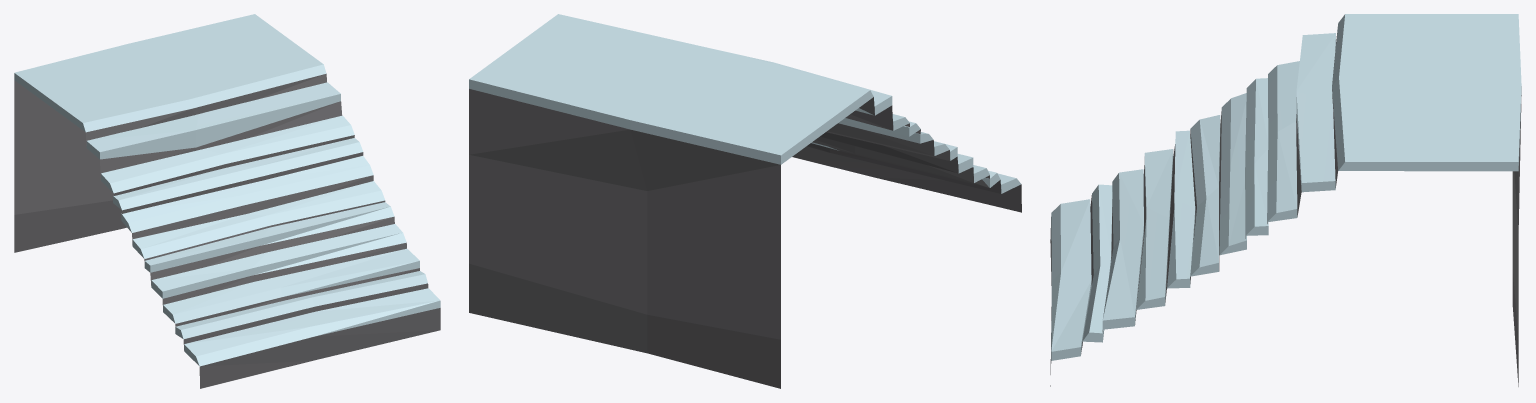
Rendered from SM_Bld_StairsLarge_01_Snow.gltf.
3 renders of one model, left to right at view 1: azimuth 30°, elevation 25°; view 2: azimuth 150°, elevation 25°; view 3: azimuth 270°, elevation 25°, orthographic. The views are drawn at different scales.
Parts seen in each view (by area): view 1: SM_Bld_StairsLarge_01_Snow; view 2: SM_Bld_StairsLarge_01_Snow; view 3: SM_Bld_StairsLarge_01_Snow.
Part boxes in pixels (box(x1,y1,x2,y2)): SM_Bld_StairsLarge_01_Snow: box(14, 14, 440, 388); SM_Bld_StairsLarge_01_Snow: box(469, 14, 1021, 388); SM_Bld_StairsLarge_01_Snow: box(1050, 14, 1521, 386).
Bounding box in the file's own units: 2.89 × 2.07 × 3.88.
Materials: 1 (1 with a texture image).
